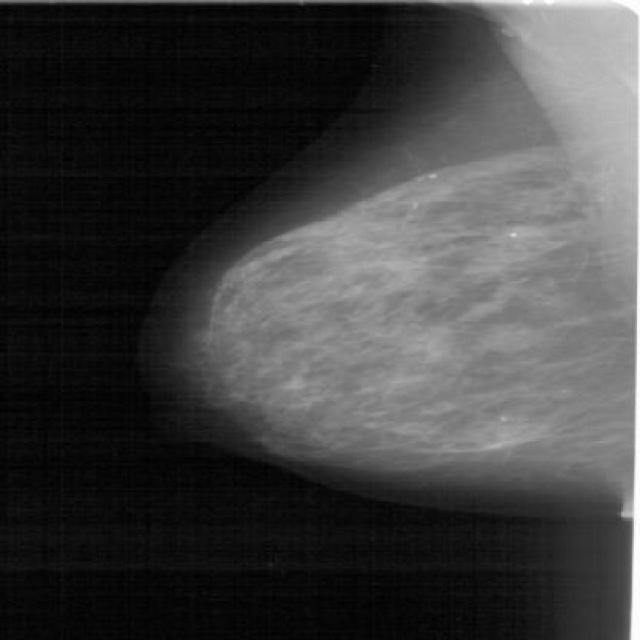tumor: (249, 245, 517, 420)
